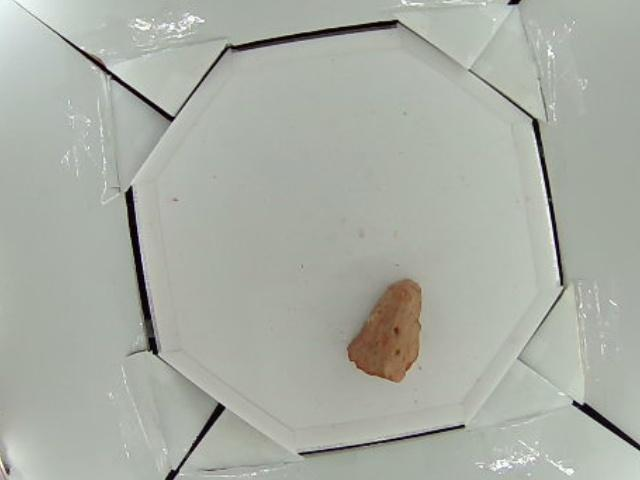Brisk: (347, 282, 420, 383)
